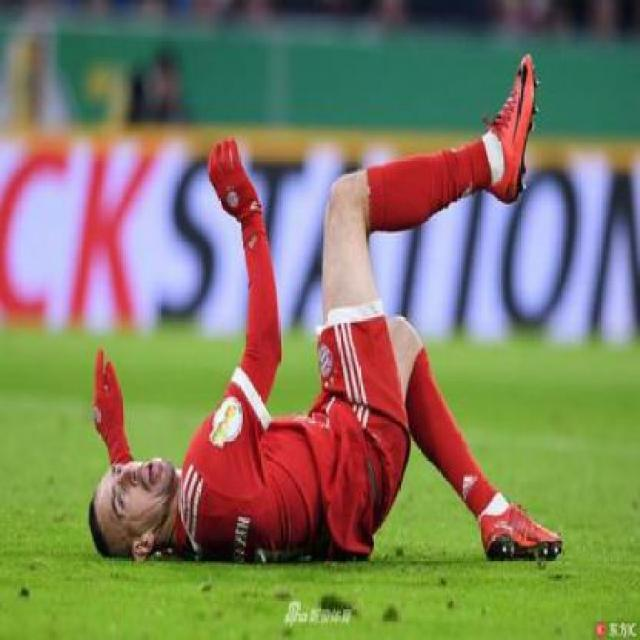fall: (66, 31, 568, 589)
